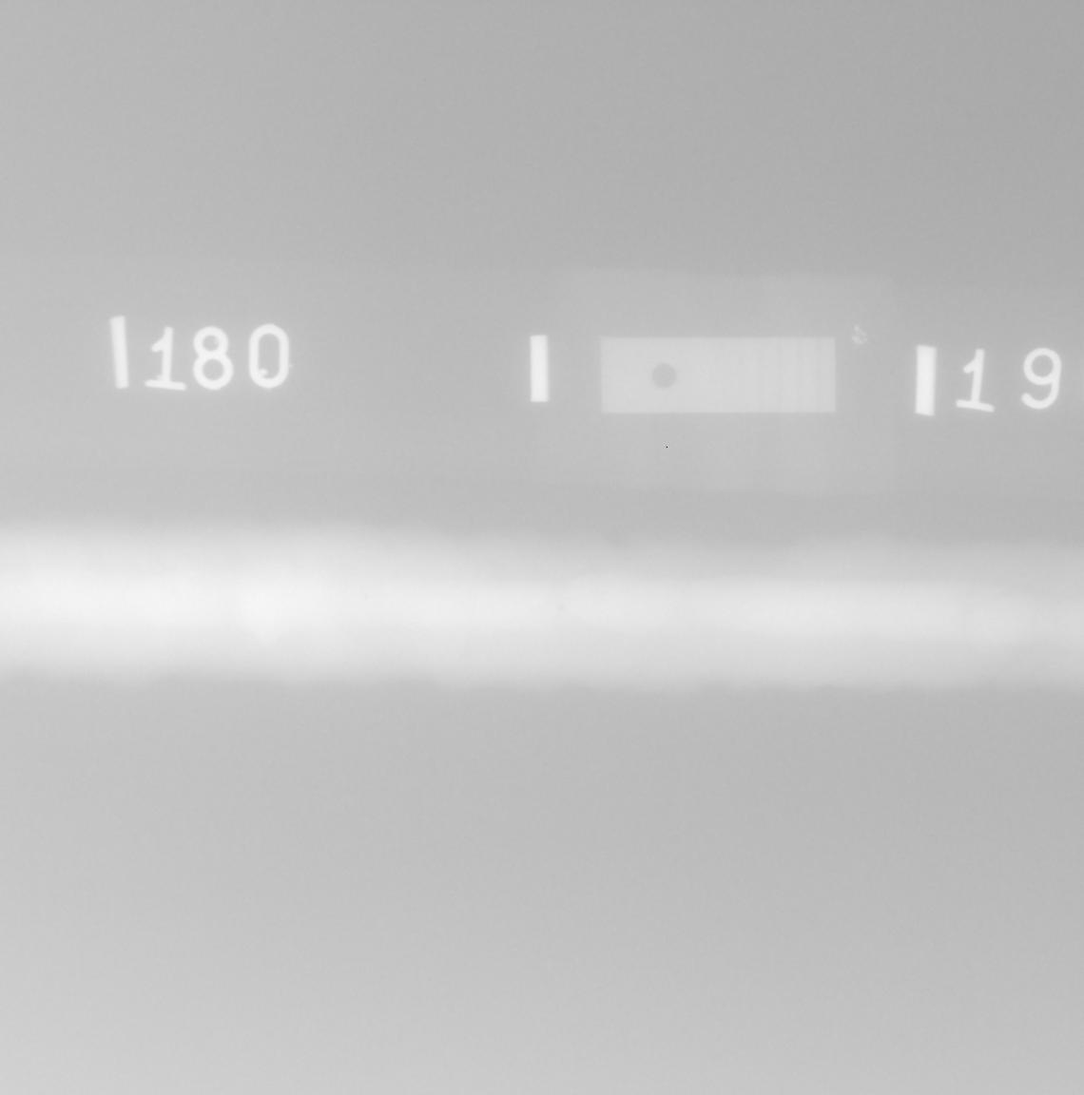Pore/Porosity: (359, 592, 370, 600), (556, 604, 565, 611), (5, 616, 12, 621), (1056, 600, 1061, 605)
Reference Standard 1: (600, 337, 837, 414)
